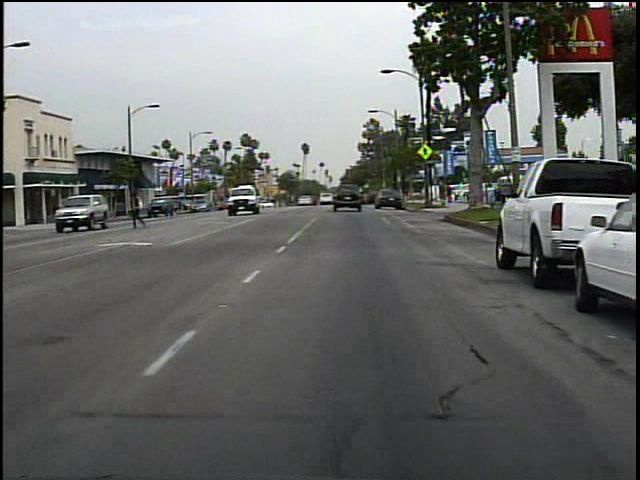person: (127, 187, 153, 232), (482, 177, 503, 211)
